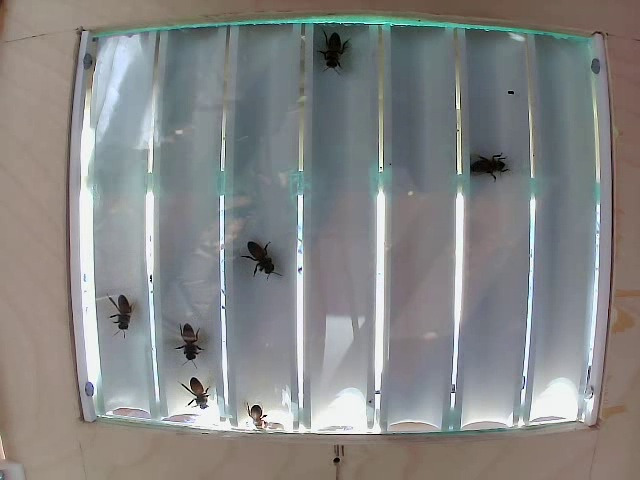bee: (174, 371, 229, 413), (98, 289, 141, 342), (240, 239, 289, 284), (312, 28, 357, 70), (165, 315, 207, 360), (469, 154, 497, 180)
